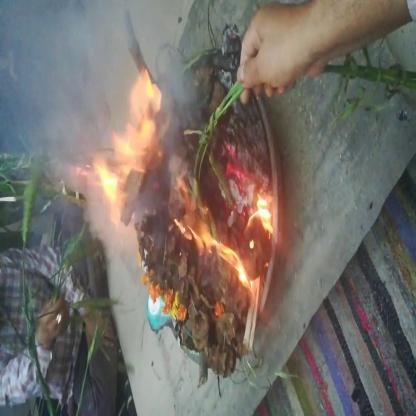fire: (88, 64, 164, 203), (194, 224, 259, 302), (245, 183, 278, 238)
other: (132, 243, 186, 335), (211, 294, 227, 326)
